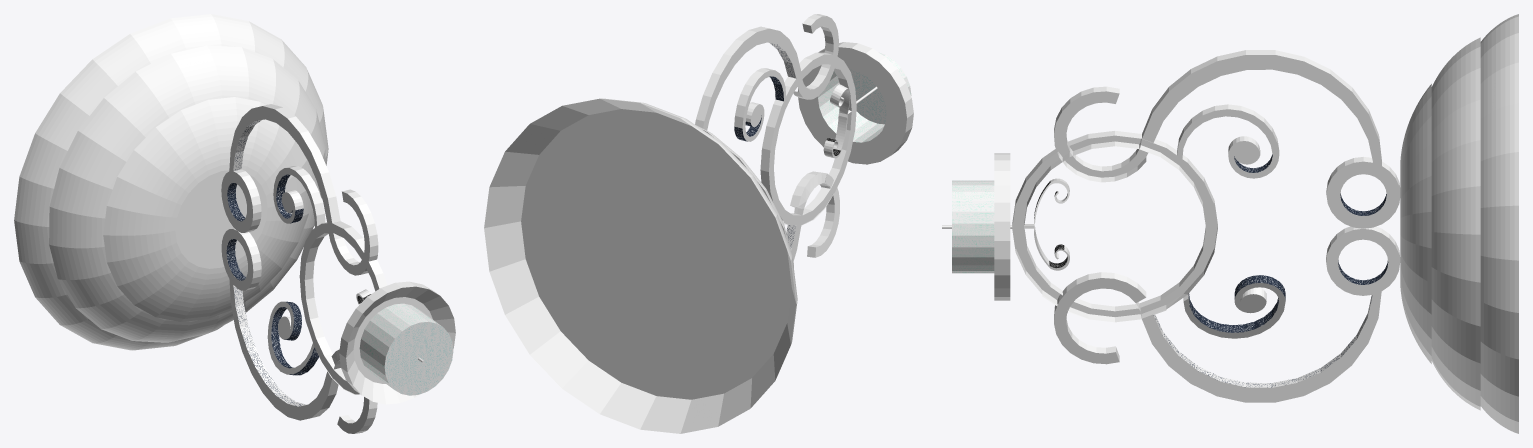
3 renders of one model, left to right at view 1: azimuth 30°, elevation 25°; view 2: azimuth 150°, elevation 25°; view 3: azimuth 270°, elevation 25°, orthographic. The views are drawn at different scales.
Parts seen in each view (by area): view 1: iron candle stand; view 2: iron candle stand; view 3: iron candle stand.
Boxes of the visible parts, bbox=[...] form: iron candle stand: bbox=[14, 14, 455, 433]; iron candle stand: bbox=[484, 14, 913, 433]; iron candle stand: bbox=[942, 14, 1518, 433].
Bounding box in the file's own units: 158 × 158 × 216.
